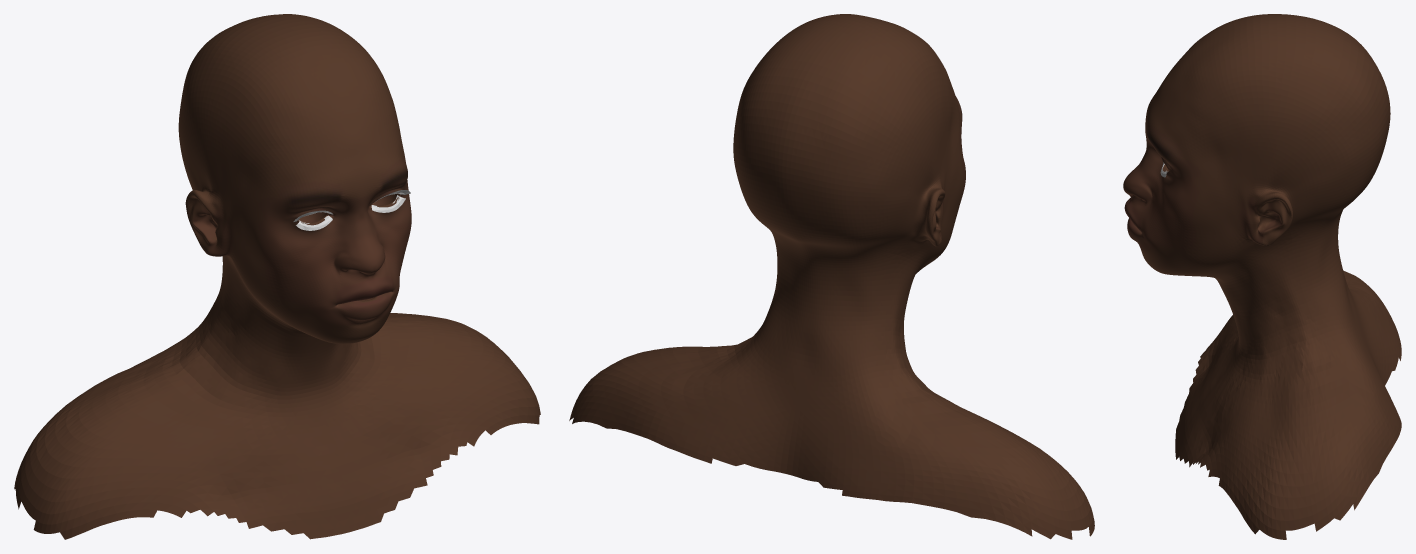
File: hd_f_dark_full.glb
3 renders of one model, left to right at view 1: azimuth 30°, elevation 25°; view 2: azimuth 150°, elevation 25°; view 3: azimuth 270°, elevation 25°, orthographic. The views are drawn at different scales.
Parts seen in each view (by area): view 1: skin, lashes; view 2: skin; view 3: skin.
Boxes of the visible parts, left/top/right/bottom form: skin: left=14, top=14, right=540, bottom=539; lashes: left=293, top=190, right=410, bottom=230; skin: left=569, top=14, right=1094, bottom=539; skin: left=1123, top=14, right=1401, bottom=539.
Size of the model in its own units: 0.4155 by 0.3673 by 0.2194.
